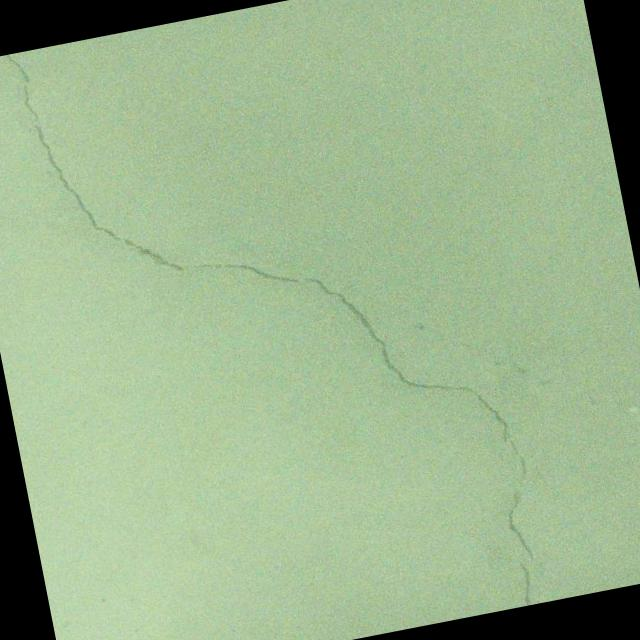crack: (3, 8, 299, 330), (304, 243, 546, 593), (517, 559, 536, 606)
